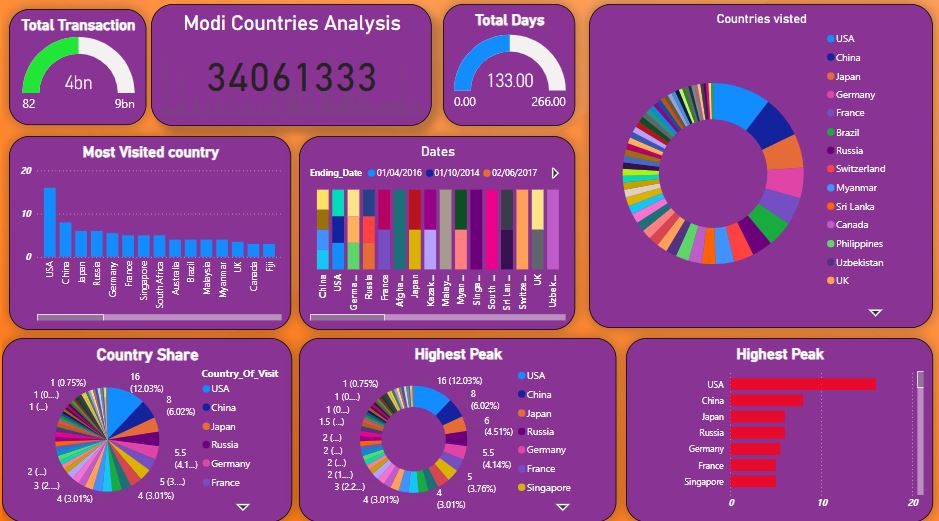

This screenshot's page, from the dashboard's own definition file:
{"tool":"powerbi","page":{"name":"Page 1","canvas":[1280,720],"ordinal":0},"visuals":[{"type":"gauge","title":"Total Days","fields":{"Y":["Worksheet.No of Days"]},"box":[600.5,14.4,180,165.6],"z":0},{"type":"clusteredBarChart","title":"Highest Peak","fields":{"Category":["Worksheet.Country_Of_Visit"],"Y":["Worksheet.No of Days"]},"box":[849.6,469.4,417.6,250.6],"z":1000},{"type":"columnChart","title":"Most Visited country","fields":{"Category":["Worksheet.Country_Of_Visit"],"Y":["Worksheet.No of Days"]},"box":[10.1,194.4,384.5,263.5],"z":2000},{"type":"pieChart","title":"Country Share","fields":{"Category":["Worksheet.Country_Of_Visit"],"Y":["Worksheet.No of Days"]},"box":[0,469.4,394.6,250.6],"z":3000},{"type":"gauge","title":"Total Transaction","fields":{"Y":["Worksheet.Chartered_Flight_Expenses"],"MinValue":["Worksheet.Country_Of_Visit"]},"box":[10.1,21.6,187.2,158.4],"z":4000},{"type":"hundredPercentStackedColumnChart","title":"Dates ","fields":{"Category":["Worksheet.Country_Of_Visit"],"Y":["Worksheet.Starting_Date"],"Series":["Worksheet.Ending_Date"]},"box":[404.6,194.4,375.8,263.5],"z":5000},{"type":"donutChart","title":"Highest Peak","fields":{"Category":["Worksheet.Country_Of_Visit"],"Y":["Worksheet.No of Days"]},"box":[404.6,469.4,432,250.6],"z":6000},{"type":"donutChart","title":"Countries visted","fields":{"Category":["Worksheet.Country_Of_Visit"],"Y":["Worksheet.Chartered_Flight_Expenses"]},"box":[799.2,14.4,468,440.6],"z":7000},{"type":"kpi","title":"Modi Countries Analysis","fields":{"Indicator":["Worksheet.Chartered_Flight_Expenses"],"TrendLine":["Worksheet.Ending_Date"]},"box":[203,14.4,381.6,165.6],"z":8000}]}

Visuals, with their boxes in screenshot pixels (x1, y1, x2, y2), scaled from the page's 1280x720 canvas onto the 939x521 screenshot:
"Total Days" gauge: crop(441, 10, 573, 130)
"Highest Peak" clusteredBarChart: crop(623, 340, 930, 520)
"Most Visited country" columnChart: crop(7, 141, 289, 331)
"Country Share" pieChart: crop(0, 340, 289, 520)
"Total Transaction" gauge: crop(7, 16, 145, 130)
"Dates " hundredPercentStackedColumnChart: crop(297, 141, 572, 331)
"Highest Peak" donutChart: crop(297, 340, 614, 520)
"Countries visted" donutChart: crop(586, 10, 930, 329)
"Modi Countries Analysis" kpi: crop(149, 10, 429, 130)
